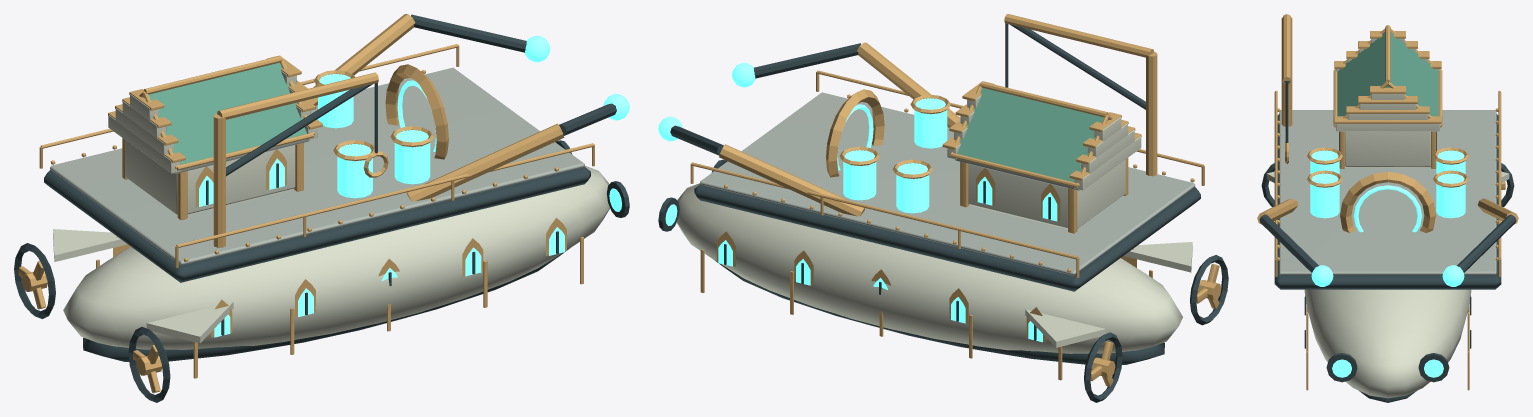
Rendered from enemy-tender.glb.
The picture shows the model from 3 angles, left to right: view 1: azimuth 30°, elevation 25°; view 2: azimuth 150°, elevation 25°; view 3: azimuth 270°, elevation 25°; orthographic projection. The views are drawn at different scales.
Parts seen in each view (by area): view 1: enemy-tender / Ceramic | pressure porcelain, enemy-tender / Paint | armored limestone, enemy-tender / Fittings | worn maritime brass, enemy-tender / Hull | charcoal iron, Steep Hanseatic roof.001, enemy-tender / Lamp | turbine mint; view 2: enemy-tender / Ceramic | pressure porcelain, enemy-tender / Paint | armored limestone, enemy-tender / Fittings | worn maritime brass, enemy-tender / Hull | charcoal iron, Steep Hanseatic roof.001, enemy-tender / Lamp | turbine mint; view 3: enemy-tender / Paint | armored limestone, enemy-tender / Ceramic | pressure porcelain, enemy-tender / Fittings | worn maritime brass, enemy-tender / Hull | charcoal iron, enemy-tender / Lamp | turbine mint, Steep Hanseatic roof.001.
Part boxes in pixels (x1,y1,x2,y2): enemy-tender / Ceramic | pressure porcelain: (53,71,609,349); enemy-tender / Paint | armored limestone: (50,67,584,265); enemy-tender / Fittings | worn maritime brass: (18,14,594,393); enemy-tender / Hull | charcoal iron: (14,14,629,402); Steep Hanseatic roof.001: (144,62,307,164); enemy-tender / Lamp | turbine mint: (199,35,629,337); enemy-tender / Ceramic | pressure porcelain: (676,95,1192,353); enemy-tender / Paint | armored limestone: (700,92,1195,275); enemy-tender / Fittings | worn maritime brass: (690,14,1221,386); enemy-tender / Hull | charcoal iron: (658,23,1228,402); Steep Hanseatic roof.001: (957,87,1108,182); enemy-tender / Lamp | turbine mint: (658,62,1057,342); enemy-tender / Paint | armored limestone: (1279,110,1496,274); enemy-tender / Ceramic | pressure porcelain: (1266,38,1509,398); enemy-tender / Fittings | worn maritime brass: (1257,14,1518,390); enemy-tender / Hull | charcoal iron: (1259,81,1516,402); enemy-tender / Lamp | turbine mint: (1310,150,1465,377); Steep Hanseatic roof.001: (1337,32,1438,116).
Size of the model in its own units: 8.46 by 4.39 by 4.27.
